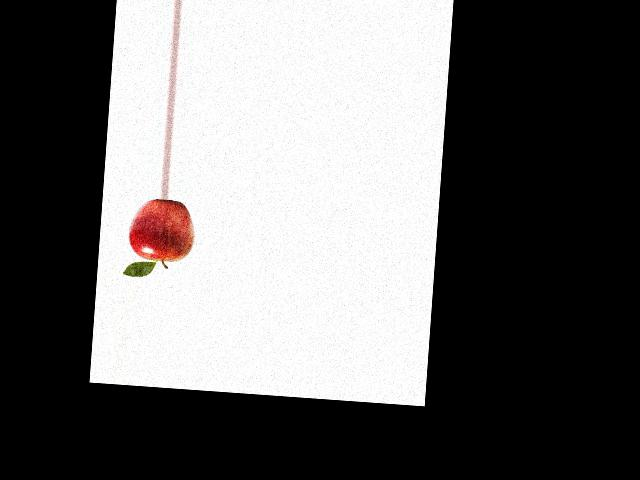apple: (122, 196, 198, 267)
